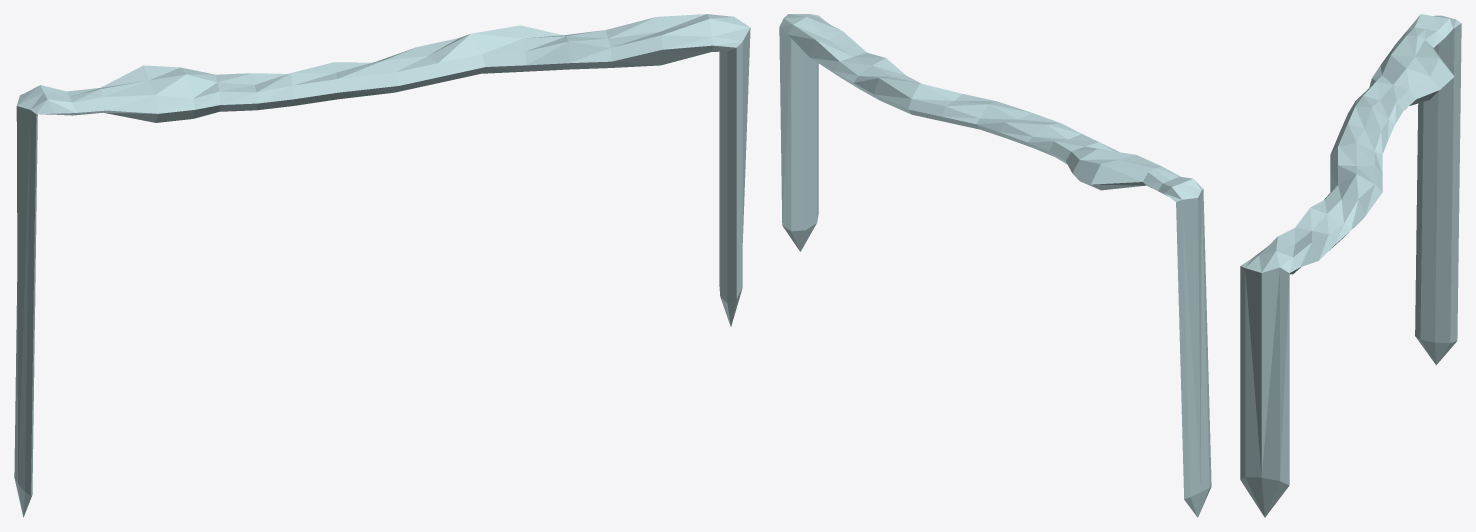
Rendered from water01.fbx.
3 views of the same model, side by side, from view 1: azimuth 30°, elevation 25°; view 2: azimuth 150°, elevation 25°; view 3: azimuth 270°, elevation 25° (orthographic). The views are drawn at different scales.
Parts seen in each view (by area): view 1: pCylinder5; view 2: pCylinder5; view 3: pCylinder5.
Part boxes in pixels (bbox=[...]): pCylinder5: bbox=[14, 14, 750, 517]; pCylinder5: bbox=[779, 14, 1211, 517]; pCylinder5: bbox=[1240, 14, 1461, 517].
Bounding box in the file's own units: 0.7427 × 0.4767 × 0.2659.
